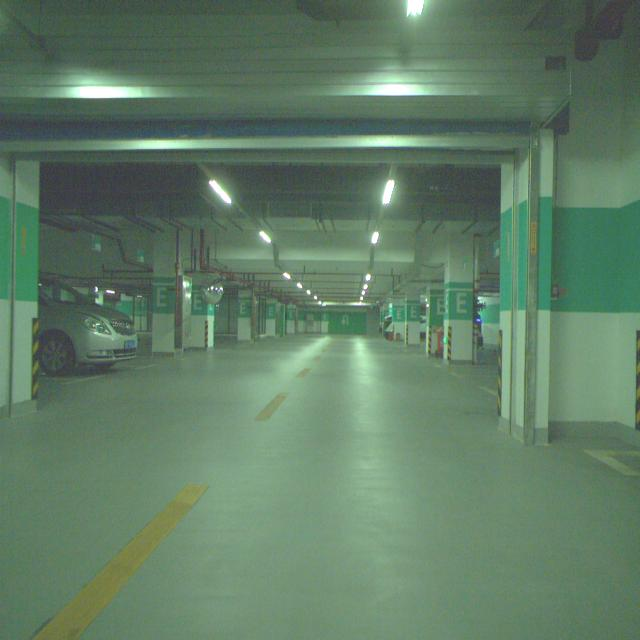pillar: (152, 228, 185, 354), (444, 236, 474, 362), (190, 275, 215, 348)
